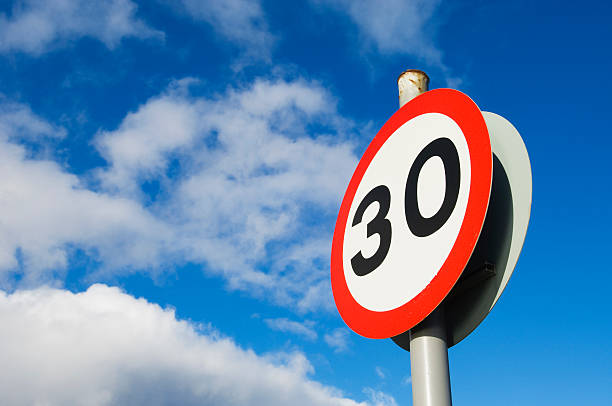Speed_limit_30km: (325, 88, 493, 344)
